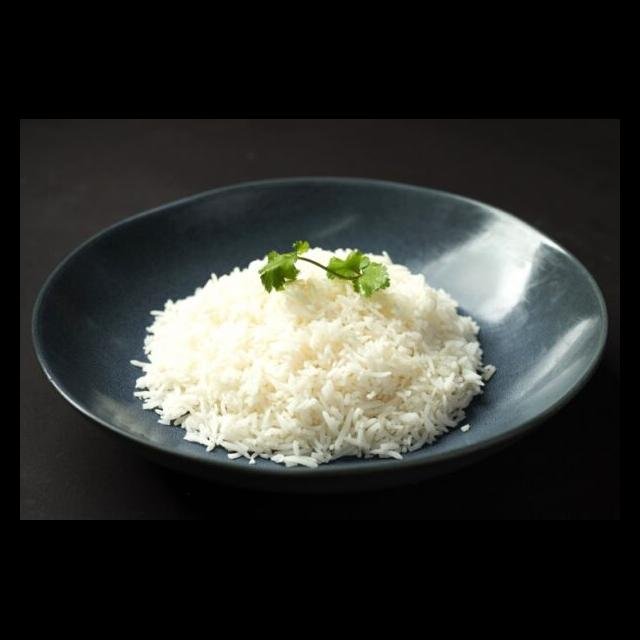food_waste: (170, 237, 396, 439)
